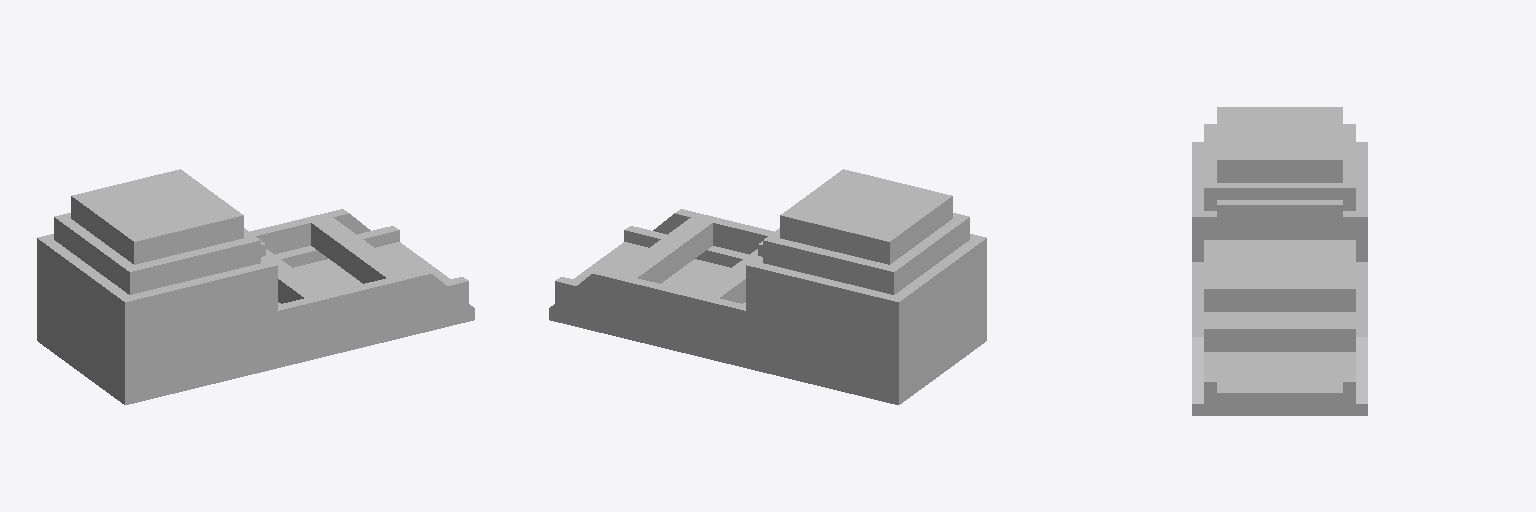
File: sluice.obj
3 renders of one model, left to right at view 1: azimuth 30°, elevation 25°; view 2: azimuth 150°, elevation 25°; view 3: azimuth 270°, elevation 25°, orthographic.
Visible parts, largest first — view 1: Sluice, Sediment; view 2: Sluice, Sediment; view 3: Sluice, Sediment.
Part boxes in pixels (bbox=[...]): Sluice: bbox=[37, 209, 474, 404]; Sediment: bbox=[71, 169, 449, 304]; Sluice: bbox=[549, 209, 986, 404]; Sediment: bbox=[574, 169, 952, 304]; Sluice: bbox=[1192, 124, 1367, 415]; Sediment: bbox=[1217, 107, 1342, 403].
Size of the model in its own units: 2 by 0.8125 by 0.875.